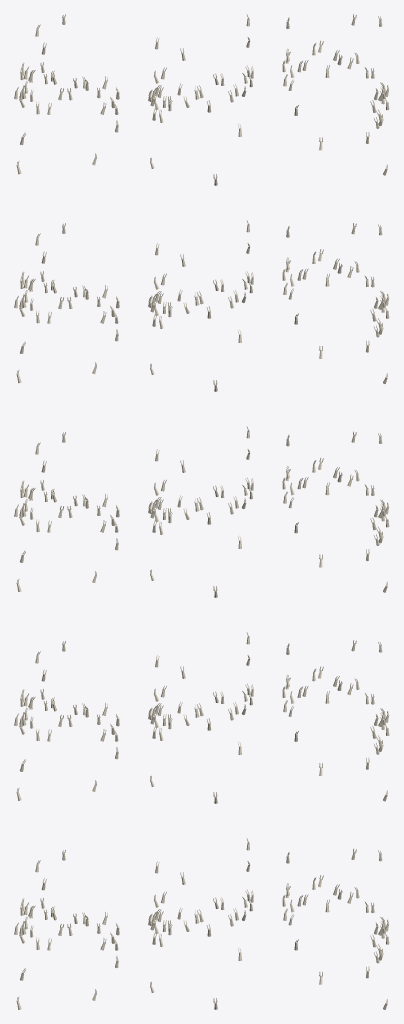
File: Circle2Crowd1.obj
3 views of the same model, side by side, from view 1: azimuth 30°, elevation 25°; view 2: azimuth 150°, elevation 25°; view 3: azimuth 330°, elevation 25° (orthographic).
Visible parts, largest first — view 1: Circle2Crowd1; view 2: Circle2Crowd1; view 3: Circle2Crowd1.
Boxes of the visible parts, x1=… form: Circle2Crowd1: x1=14, y1=14, x2=119, y2=1009; Circle2Crowd1: x1=148, y1=14, x2=253, y2=1009; Circle2Crowd1: x1=282, y1=14, x2=389, y2=1009.
Bounding box in the file's own units: 30.66 × 309 × 25.75.
Materials: 1 (1 with a texture image).
